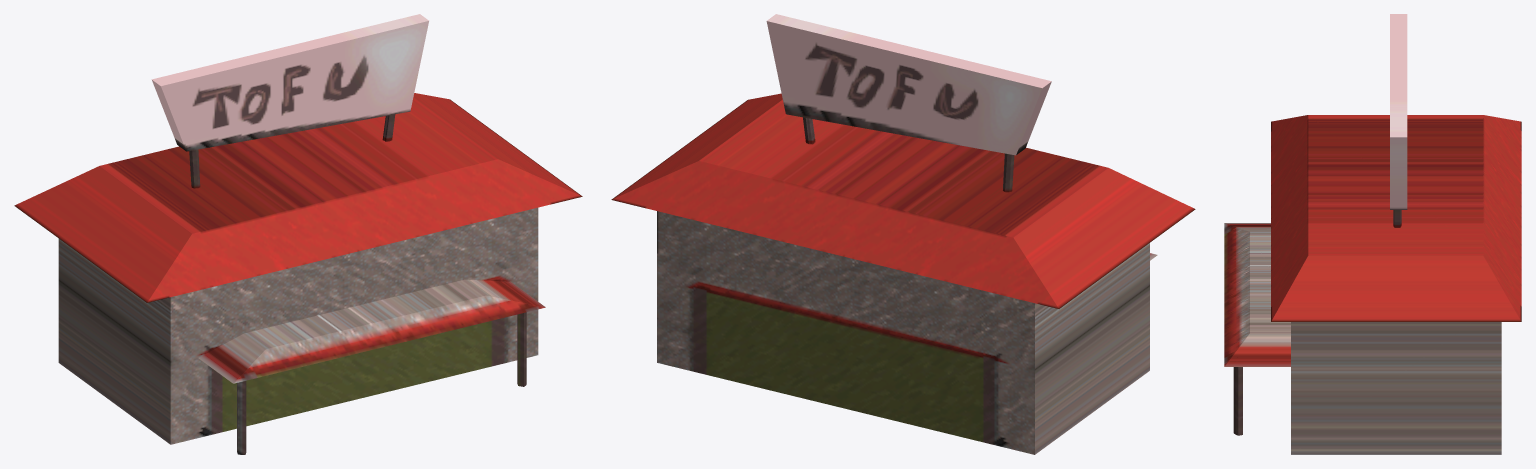
File: House9.glb
3 renders of one model, left to right at view 1: azimuth 30°, elevation 25°; view 2: azimuth 150°, elevation 25°; view 3: azimuth 270°, elevation 25°, orthographic. The views are drawn at different scales.
Visible parts, largest first — view 1: House9; view 2: House9; view 3: House9.
Boxes of the visible parts, bbox=[...] form: House9: bbox=[14, 14, 582, 454]; House9: bbox=[611, 14, 1195, 454]; House9: bbox=[1224, 14, 1521, 454].
Size of the model in its own units: 168 by 114 by 105.
1 material, 1 textured.
